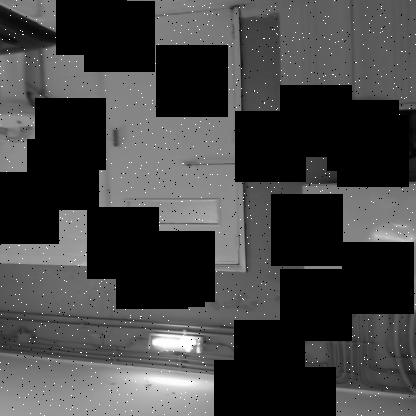Porte: (98, 6, 249, 274)
